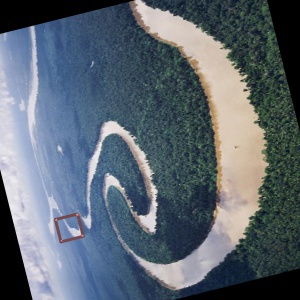square: (52, 211, 87, 244)
